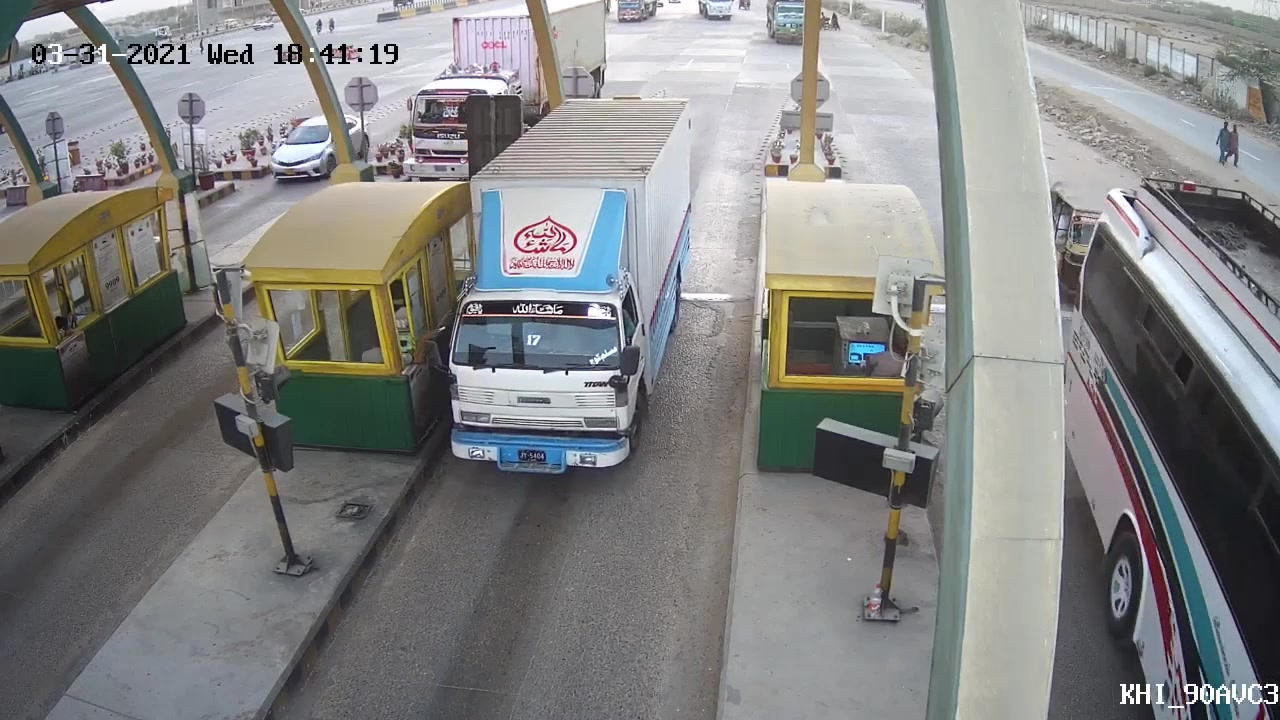F3: (430, 89, 715, 481)
